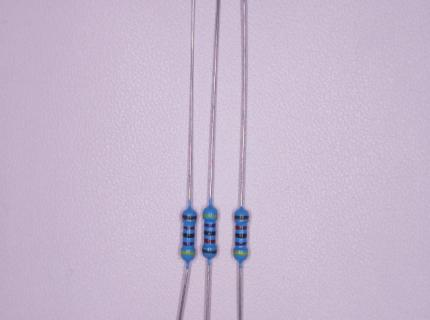Black band: (183, 233, 194, 238), (183, 241, 194, 246), (204, 231, 216, 235)
Brown band: (182, 215, 197, 220), (234, 215, 249, 220), (202, 249, 217, 254), (235, 234, 247, 238)
Red band: (204, 239, 216, 244), (235, 225, 247, 230), (183, 226, 195, 230)
Violet band: (204, 223, 216, 228), (235, 242, 247, 246)
Yellow band: (202, 214, 217, 219), (180, 250, 195, 255), (233, 251, 248, 256)
